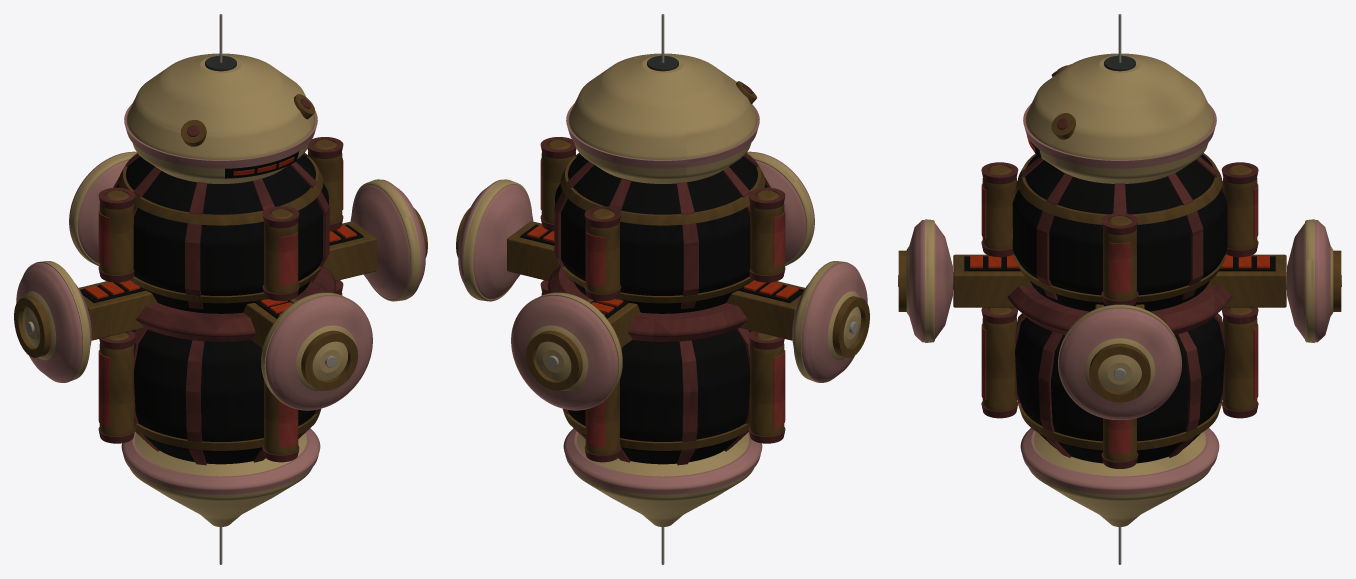
The picture shows the model from 3 angles, left to right: view 1: azimuth 30°, elevation 25°; view 2: azimuth 150°, elevation 25°; view 3: azimuth 270°, elevation 25°; orthographic projection.
Parts seen in each view (by area): view 1: SkyMech expanded axial pressure core, SkyMech upper gold dome, SkyMech rose radial module 3, SkyMech rose radial module 0, SkyMech lower gold cone, SkyMech lower rose rim, SkyMech rose radial module 2, SkyMech expanded equatorial collar, SkyMech new axial housing lower 2, SkyMech expanded core gold band 1, SkyMech broad radial service casing 2, SkyMech new axial housing upper 2 (+27 smaller); view 2: SkyMech expanded axial pressure core, SkyMech upper gold dome, SkyMech rose radial module 1, SkyMech rose radial module 0, SkyMech lower gold cone, SkyMech lower rose rim, SkyMech rose radial module 2, SkyMech expanded equatorial collar, SkyMech new axial housing lower 2, SkyMech expanded core gold band 1, SkyMech broad radial service casing 2, SkyMech new axial housing upper 2 (+26 smaller); view 3: SkyMech expanded axial pressure core, SkyMech upper gold dome, SkyMech rose radial module 0, SkyMech lower gold cone, SkyMech lower rose rim, SkyMech expanded equatorial collar, SkyMech rose radial module 1, SkyMech rose radial module 3, SkyMech new axial housing lower 1, SkyMech new axial housing lower 3, SkyMech broad radial service casing 1, SkyMech broad radial service casing 3 (+21 smaller).
Part boxes in pixels (left/top/right/bottom): SkyMech expanded axial pressure core: left=116, top=154, right=328, bottom=464; SkyMech upper gold dome: left=126, top=53, right=315, bottom=183; SkyMech rose radial module 3: left=265, top=295, right=372, bottom=410; SkyMech rose radial module 0: left=350, top=179, right=425, bottom=299; SkyMech lower gold cone: left=130, top=433, right=312, bottom=526; SkyMech lower rose rim: left=121, top=428, right=320, bottom=494; SkyMech rose radial module 2: left=16, top=262, right=91, bottom=382; SkyMech expanded equatorial collar: left=136, top=265, right=336, bottom=341; SkyMech new axial housing lower 2: left=99, top=332, right=133, bottom=436; SkyMech expanded core gold band 1: left=118, top=153, right=323, bottom=225; SkyMech broad radial service casing 2: left=79, top=281, right=157, bottom=340; SkyMech new axial housing upper 2: left=99, top=190, right=133, bottom=275; SkyMech expanded axial pressure core: left=555, top=154, right=767, bottom=464; SkyMech upper gold dome: left=568, top=53, right=757, bottom=183; SkyMech rose radial module 1: left=511, top=295, right=618, bottom=410; SkyMech rose radial module 0: left=458, top=179, right=533, bottom=299; SkyMech lower gold cone: left=571, top=433, right=753, bottom=526; SkyMech lower rose rim: left=563, top=428, right=762, bottom=494; SkyMech rose radial module 2: left=792, top=262, right=867, bottom=382; SkyMech expanded equatorial collar: left=547, top=265, right=747, bottom=341; SkyMech new axial housing lower 2: left=750, top=332, right=784, bottom=436; SkyMech expanded core gold band 1: left=560, top=153, right=765, bottom=225; SkyMech broad radial service casing 2: left=726, top=281, right=804, bottom=340; SkyMech new axial housing upper 2: left=750, top=190, right=784, bottom=275; SkyMech expanded axial pressure core: left=1012, top=154, right=1227, bottom=463; SkyMech upper gold dome: left=1025, top=53, right=1214, bottom=183; SkyMech rose radial module 0: left=1058, top=308, right=1181, bottom=420; SkyMech lower gold cone: left=1029, top=431, right=1210, bottom=526; SkyMech lower rose rim: left=1020, top=428, right=1219, bottom=494; SkyMech expanded equatorial collar: left=1007, top=286, right=1232, bottom=334; SkyMech rose radial module 1: left=1287, top=220, right=1330, bottom=342; SkyMech rose radial module 3: left=909, top=220, right=952, bottom=342; SkyMech new axial housing lower 1: left=1223, top=307, right=1257, bottom=410; SkyMech new axial housing lower 3: left=982, top=307, right=1016, bottom=410; SkyMech broad radial service casing 1: left=1207, top=254, right=1286, bottom=307; SkyMech broad radial service casing 3: left=953, top=254, right=1032, bottom=307.
Bounding box in the file's own units: 3.62 × 4.95 × 3.62.
9 materials, 7 textured.
